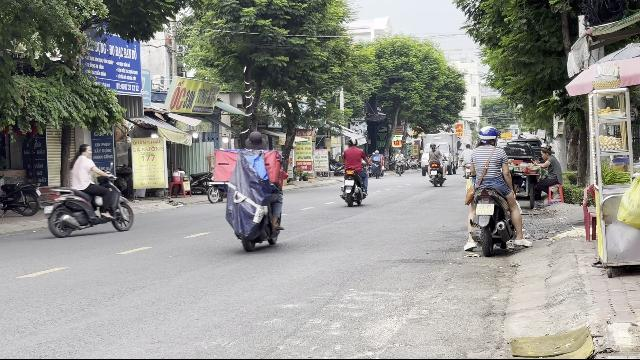helmet: (477, 126, 499, 146)
licenseplate: (476, 204, 494, 214)
motorcyclist: (39, 141, 137, 239), (460, 124, 524, 256), (222, 128, 286, 252)
nohelmet: (244, 130, 266, 150), (74, 142, 92, 162)
